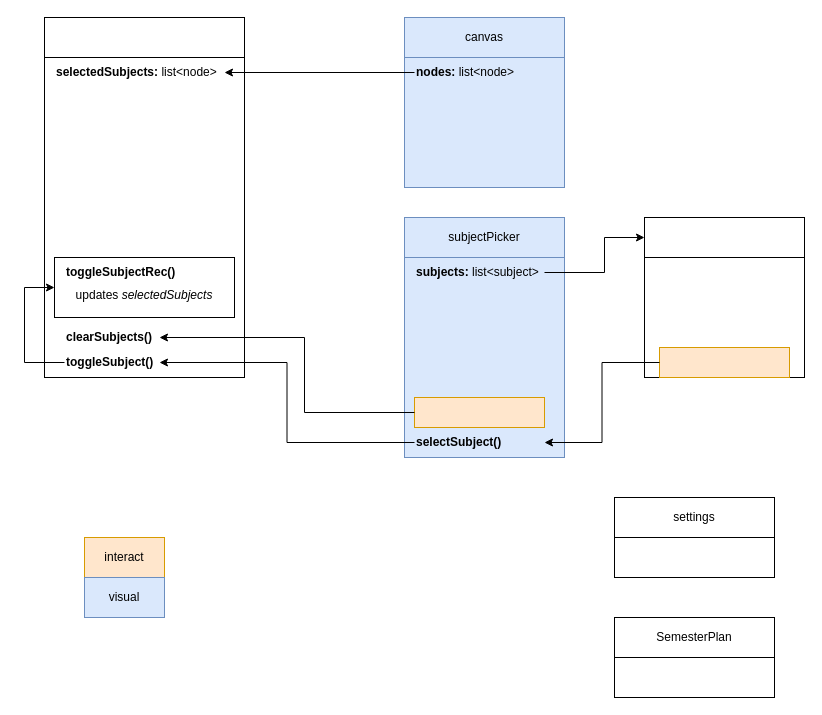
Some shapes in this 822 by 715 pixel diagram are drawn without their labels. The shapes that lost their labels are listed below. From the top down, each one's centre as x and y in pixels, then its label:
At point (144, 37): "App".
At point (724, 237): "subject".
At point (724, 362): "onClick()".
At point (479, 412): "clear()".
